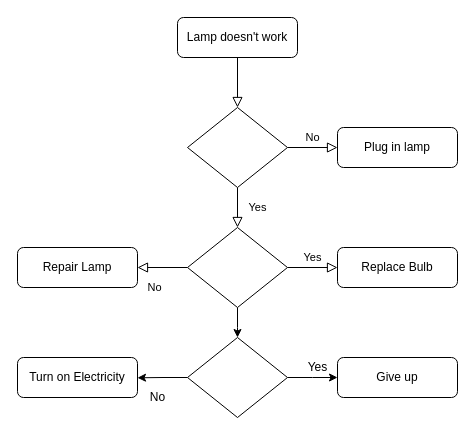
This 475x435 diagram has some shape labels left out. The shapes that lost their labels are listed below. From the top down, each one's centre as x and y in pixels, then its label:
point 237,147: Lamp plugged in?
point 237,267: Bulb burned out?
point 237,377: Do you have electricity?
